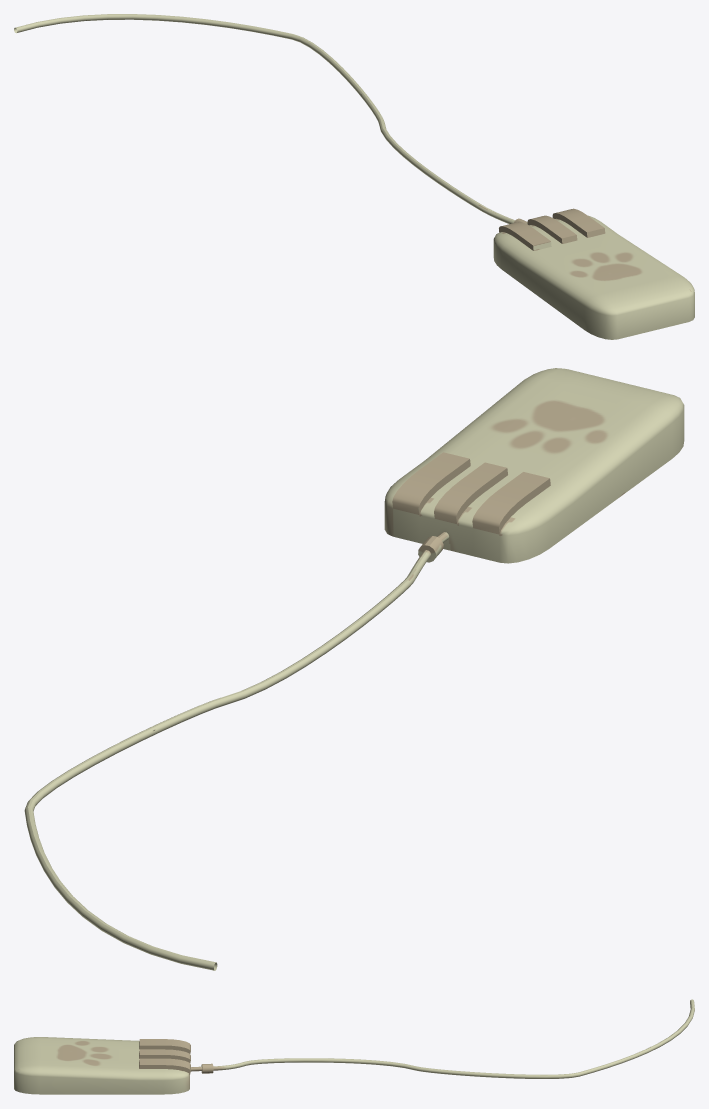
The model's file is mouse.fbx.
3 views of the same model, one above another, from view 1: azimuth 30°, elevation 25°; view 2: azimuth 150°, elevation 25°; view 3: azimuth 270°, elevation 25° (orthographic). The views are drawn at different scales.
Parts seen in each view (by area): view 1: Cube; view 2: Cube; view 3: Cube.
Boxes of the visible parts, x1,y1,x2,y2 form: Cube: (14, 14, 694, 339); Cube: (24, 368, 684, 970); Cube: (14, 999, 694, 1094).
Bounding box in the file's own units: 913 × 120 × 3095.
Materials: 1 (1 with a texture image).
